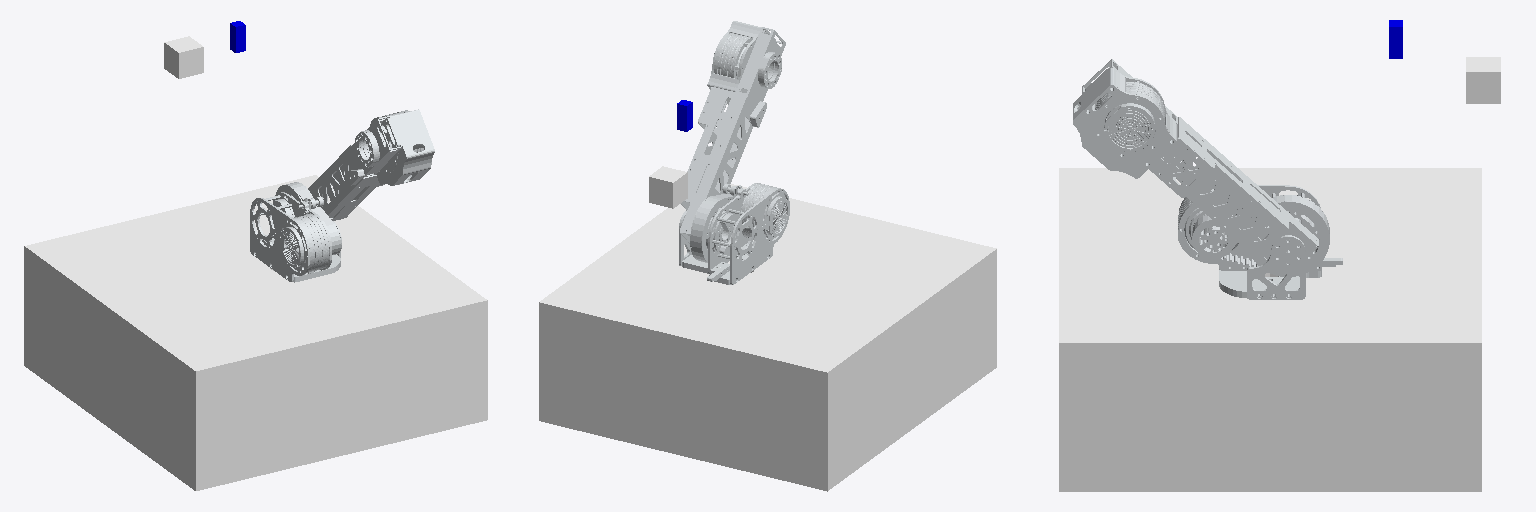
The robot description file, URDF, robot "wust_seven_axis_arm_description":
<?xml version="1.0" encoding="utf-8"?>
<!-- This URDF was automatically created by SolidWorks to URDF Exporter! Originally created by Stephen Brawner (brawner@gmail.com) 
     Commit Version: 1.6.0-4-g7f85cfe  Build Version: 1.6.7995.38578
     For more information, please see http://wiki.ros.org/sw_urdf_exporter -->
<robot
  name="wust_seven_axis_arm_description">
  <link
    name="base_link">
    <inertial>
      <origin
        xyz="0.022966 -0.114 -0.178491"
        rpy="0 0 0" />
      <mass
        value="77.643" />
      <inertia
        ixx="2.5225"
        ixy="9.3836E-17"
        ixz="7.3364E-17"
        iyy="4.4493"
        iyz="9.0781E-17"
        izz="2.5996" />
    </inertial>
    <visual>
      <origin
        xyz="0 0 -0.23"
        rpy="0 0 0" />
      <geometry>
        <mesh
          filename="package://wust_seven_axis_arm_description/meshes/base_link.STL" />
      </geometry>
      <material
        name="">
        <color
          rgba="1 1 1 1" />
      </material>
    </visual>
    <collision>
      <origin
        xyz="0 0 -0.23"
        rpy="0 0 0" />
      <geometry>
        <mesh
          filename="package://wust_seven_axis_arm_description/meshes/base_link.STL" />
      </geometry>
    </collision>
  </link>
  <link
    name="LINK1">
    <inertial>
      <origin
        xyz="-0.026552 0.004322 0.047909"
        rpy="0 0 0" />
      <mass
        value="1.1303" />
      <inertia
        ixx="0.0010196"
        ixy="-3.0364E-05"
        ixz="5.3201E-05"
        iyy="0.0020387"
        iyz="-1.8449E-08"
        izz="0.0018577" />
    </inertial>
    <visual>
      <origin
        xyz="0 0 0"
        rpy="0 0 0" />
      <geometry>
        <mesh
          filename="package://wust_seven_axis_arm_description/meshes/LINK1.STL" />
      </geometry>
      <material
        name="">
        <color
          rgba="0.89804 0.91765 0.92941 1" />
      </material>
    </visual>
    <collision>
      <origin
        xyz="0 0 0"
        rpy="0 0 0" />
      <geometry>
        <mesh
          filename="package://wust_seven_axis_arm_description/meshes/LINK1.STL" />
      </geometry>
    </collision>
  </link>
  <joint
    name="joint1"
    type="revolute">
    <origin
      xyz="0.022966 0.0012471 0"
      rpy="0 0 1.5708" />
    <parent
      link="base_link" />
    <child
      link="LINK1" />
    <axis
      xyz="0 0 1" />
    <limit
      lower="-3.14"
      upper="3.14"
      effort="80"
      velocity="3.14" />
  </joint>
  <link
    name="LINK2">
    <inertial>
      <origin
        xyz="0.16906 -0.0066264 -0.00043466"
        rpy="0 0 0" />
      <mass
        value="1.9471" />
      <inertia
        ixx="0.0013615"
        ixy="4.8371E-05"
        ixz="3.9307E-05"
        iyy="0.005887"
        iyz="7.7012E-09"
        izz="0.0068802" />
    </inertial>
    <visual>
      <origin
        xyz="0 0 0"
        rpy="0 0 0" />
      <geometry>
        <mesh
          filename="package://wust_seven_axis_arm_description/meshes/LINK2.STL" />
      </geometry>
      <material
        name="">
        <color
          rgba="0.89804 0.91765 0.92941 1" />
      </material>
    </visual>
    <collision>
      <origin
        xyz="0 0 0"
        rpy="0 0 0" />
      <geometry>
        <mesh
          filename="package://wust_seven_axis_arm_description/meshes/LINK2.STL" />
      </geometry>
    </collision>
  </link>
  <joint
    name="joint2"
    type="revolute">
    <origin
      xyz="0.024226 -0.0557 0.073"
      rpy="1.5708 -0.77059 3.1416" />
    <parent
      link="LINK1" />
    <child
      link="LINK2" />
    <axis
      xyz="0 0 1" />
    <limit
      lower="-3.14"
      upper="3.14"
      effort="40"
      velocity="3.14" />
  </joint>
  <link
    name="LINK3">
    <inertial>
      <origin
        xyz="0.014466 0.09077 -0.077009"
        rpy="0 0 0" />
      <mass
        value="1.4032" />
      <inertia
        ixx="0.0014059"
        ixy="-3.2931E-05"
        ixz="-1.2576E-06"
        iyy="0.0019115"
        iyz="2.0188E-06"
        izz="0.0014793" />
    </inertial>
    <visual>
      <origin
        xyz="0 0 0"
        rpy="0 0 0" />
      <geometry>
        <mesh
          filename="package://wust_seven_axis_arm_description/meshes/LINK3.STL" />
      </geometry>
      <material
        name="">
        <color
          rgba="1 1 1 1" />
      </material>
    </visual>
    <collision>
      <origin
        xyz="0 0 0"
        rpy="0 0 0" />
      <geometry>
        <mesh
          filename="package://wust_seven_axis_arm_description/meshes/LINK3.STL" />
      </geometry>
    </collision>
  </link>
  <joint
    name="joint3"
    type="revolute">
    <origin
      xyz="0.308 0 0.0328"
      rpy="-3.1416 0 2.371" />
    <parent
      link="LINK2" />
    <child
      link="LINK3" />
    <axis
      xyz="0 0 1" />
    <limit
      lower="-3.14"
      upper="3.14"
      effort="2.5"
      velocity="3.14" />
  </joint>
  <link
    name="LINK4">
    <inertial>
      <origin
        xyz="-5.508E-06 -0.00055068 0.027375"
        rpy="0 0 0" />
      <mass
        value="0.43034" />
      <inertia
        ixx="0.00013372"
        ixy="1.1612E-08"
        ixz="-5.5872E-08"
        iyy="0.00016472"
        iyz="4.4027E-08"
        izz="0.00015709" />
    </inertial>
    <visual>
      <origin
        xyz="0 0 0"
        rpy="0 0 0" />
      <geometry>
        <mesh
          filename="package://wust_seven_axis_arm_description/meshes/LINK4.STL" />
      </geometry>
      <material
        name="">
        <color
          rgba="0.75294 0.75294 0.75294 1" />
      </material>
    </visual>
    <collision>
      <origin
        xyz="0 0 0"
        rpy="0 0 0" />
      <geometry>
        <mesh
          filename="package://wust_seven_axis_arm_description/meshes/LINK4.STL" />
      </geometry>
    </collision>
  </link>
  <joint
    name="joint4"
    type="revolute">
    <origin
      xyz="0.104 0 -0.033"
      rpy="1.5708 0 1.5708" />
    <parent
      link="LINK3" />
    <child
      link="LINK4" />
    <axis
      xyz="0 0 1" />
    <limit
      lower="-3.14"
      upper="3.14"
      effort="2.5"
      velocity="3.14" />
  </joint>
  <link
    name="LINK5">
    <inertial>
      <origin
        xyz="0.070446 0.0035509 -0.0055136"
        rpy="0 0 0" />
      <mass
        value="0.47533" />
      <inertia
        ixx="0.00016986"
        ixy="-1.6752E-05"
        ixz="1.3562E-06"
        iyy="0.00043792"
        iyz="1.0511E-08"
        izz="0.0004231" />
    </inertial>
    <visual>
      <origin
        xyz="0 0 0"
        rpy="0 0 0" />
      <geometry>
        <mesh
          filename="package://wust_seven_axis_arm_description/meshes/LINK5.STL" />
      </geometry>
      <material
        name="">
        <color
          rgba="0.84706 0.84706 0.84706 1" />
      </material>
    </visual>
    <collision>
      <origin
        xyz="0 0 0"
        rpy="0 0 0" />
      <geometry>
        <mesh
          filename="package://wust_seven_axis_arm_description/meshes/LINK5.STL" />
      </geometry>
    </collision>
  </link>
  <joint
    name="joint5"
    type="revolute">
    <origin
      xyz="0 0 0.08"
      rpy="1.5708 -1.5708 0" />
    <parent
      link="LINK4" />
    <child
      link="LINK5" />
    <axis
      xyz="0 0 1" />
    <limit
      lower="-3.14"
      upper="3.14"
      effort="2.5"
      velocity="3.14" />
  </joint>
  <link
    name="LINK6">
    <inertial>
      <origin
        xyz="5.2854E-05 -0.029295 -0.0065583"
        rpy="0 0 0" />
      <mass
        value="0.27211" />
      <inertia
        ixx="0.0001518"
        ixy="3.525E-08"
        ixz="6.9829E-09"
        iyy="0.00016171"
        iyz="6.8965E-07"
        izz="0.00011201" />
    </inertial>
    <visual>
      <origin
        xyz="0 0 0"
        rpy="0 0 0" />
      <geometry>
        <mesh
          filename="package://wust_seven_axis_arm_description/meshes/LINK6.STL" />
      </geometry>
      <material
        name="">
        <color
          rgba="0.89804 0.91765 0.92941 1" />
      </material>
    </visual>
    <collision>
      <origin
        xyz="0 0 0"
        rpy="0 0 0" />
      <geometry>
        <mesh
          filename="package://wust_seven_axis_arm_description/meshes/LINK6.STL" />
      </geometry>
    </collision>
  </link>
  <joint
    name="joint6"
    type="revolute">
    <origin
      xyz="0.178 0.0073 0"
      rpy="1.5708 -1.5708 3.14159" />
    <parent
      link="LINK5" />
    <child
      link="LINK6" />
    <axis
      xyz="0 0 1" />
    <limit
      lower="-3.14"
      upper="3.14"
      effort="2.5"
      velocity="3.14" />
  </joint>
  <link
    name="LINK7">
    <inertial>
      <origin
        xyz="2.4977E-05 -3.5319E-06 0.022282"
        rpy="0 0 0" />
      <mass
        value="0.21341" />
      <inertia
        ixx="2.1719E-05"
        ixy="3.2824E-10"
        ixz="-7.9769E-09"
        iyy="7.1028E-05"
        iyz="-6.2441E-11"
        izz="8.0769E-05" />
    </inertial>
    <visual>
      <origin
        xyz="0 0 0"
        rpy="0 0 0" />
      <geometry>
        <mesh
          filename="package://wust_seven_axis_arm_description/meshes/LINK7.STL" />
      </geometry>
      <material
        name="">
        <color
          rgba="1 1 1 1" />
      </material>
    </visual>
    <collision>
      <origin
        xyz="0 0 0"
        rpy="0 0 0" />
      <geometry>
        <mesh
          filename="package://wust_seven_axis_arm_description/meshes/LINK7.STL" />
      </geometry>
    </collision>
  </link>
  <joint
    name="joint7"
    type="revolute">
    <origin
      xyz="0 0.0495 0"
      rpy="1.5708 0 0" />
    <parent
      link="LINK6" />
    <child
      link="LINK7" />
    <axis
      xyz="0 0 1" />
    <limit
      lower="-3.14"
      upper="3.14"
      effort="2"
      velocity="3.14" />
  </joint>
  <link
    name="LINK_TCP">
    <inertial>
      <origin
        xyz="0.0366 -2.3873E-07 -0.062382"
        rpy="0 0 0" />
      <mass
        value="0.21539" />
      <inertia
        ixx="0.00011732"
        ixy="1.5822E-06"
        ixz="-2.2157E-20"
        iyy="0.00011326"
        iyz="-1.1766E-19"
        izz="9.8913E-05" />
    </inertial>
    <visual>
      <origin
        xyz="0 0 0"
        rpy="0 0 0" />
      <geometry>
        <box
          size="0.05 0.05 0.05" />
      </geometry>
      <material
        name="">
        <color
          rgba="1 1 1 1" />
      </material>
    </visual>
    <collision>
      <origin
        xyz="0 0 0"
        rpy="0 0 0" />
      <geometry>
        <box
          size="0.05 0.05 0.05" />
      </geometry>
    </collision>
  </link>
  <joint
    name="vacuum_tcp"
    type="fixed">
    <origin
      xyz="0.0366 0 -0.081603"
      rpy="3.1416 0 3.1416" />
    <parent
      link="LINK7" />
    <child
      link="LINK_TCP" />
    <axis
      xyz="0 0 0" />
  </joint>
  
  <link name="camera_link">
    <visual>
      <geometry>
        <box size="0.02 0.05 0.02"/>
      </geometry>
      <material name="blue">
        <color rgba="0 0 1 1"/>
      </material>
    </visual>
  </link>

  <joint name="camera_joint" type="fixed">
    <parent link="LINK7"/>
    <child link="camera_link"/>
    <origin xyz="0 -0.08 0.04" rpy="3.1416 0 3.1416"/> 
  </joint>

<link name="camera_optical_frame"/>
  <joint name="camera_optical_joint" type="fixed">
    <parent link="camera_link"/>
    <child link="camera_optical_frame"/> 
    <origin xyz="0 0 0" rpy="0 0 0"/>
  </joint>
</robot>

--- Facts derived from the render (not from the file) ---
The picture shows the robot from 3 angles, left to right: view 1: azimuth 30°, elevation 25°; view 2: azimuth 150°, elevation 25°; view 3: azimuth 270°, elevation 25°; orthographic projection.
Robot: wust_seven_axis_arm_description — 11 links, 10 joints (7 revolute, 3 fixed); root link base_link; default pose: all joints at 0.
Links seen in each view (by area): view 1: base_link, LINK2, LINK1, LINK_TCP; view 2: base_link, LINK2, LINK1, LINK_TCP; view 3: base_link, LINK2, LINK1, LINK_TCP, camera_link.
Link boxes in pixels (<box>): base_link: <box>24,175,487,490</box>; LINK2: <box>273,109,434,220</box>; LINK1: <box>250,182,341,282</box>; LINK_TCP: <box>164,36,203,78</box>; base_link: <box>539,184,996,491</box>; LINK2: <box>680,21,785,262</box>; LINK1: <box>679,183,789,284</box>; LINK_TCP: <box>649,166,687,208</box>; base_link: <box>1059,168,1481,491</box>; LINK2: <box>1073,59,1329,276</box>; LINK1: <box>1178,185,1342,299</box>; LINK_TCP: <box>1466,57,1500,103</box>; camera_link: <box>1389,20,1402,58</box>.
Bounding box of the posed robot: 0.58 × 0.6176 × 0.6152 m (x, y, z).
3 mesh visuals loaded from 8 distinct referenced files (3 binary STL); not drawn: 5 (reference not matched to a file when rendering).
